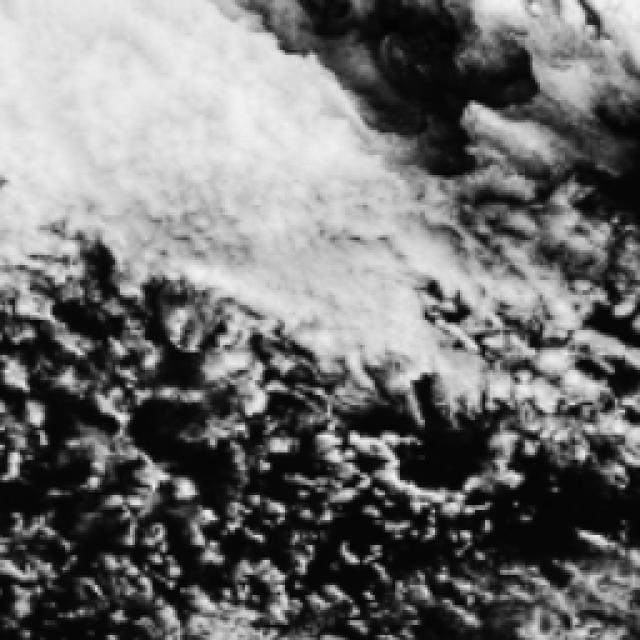CB: (2, 0, 160, 145), (124, 46, 262, 201), (291, 190, 424, 341), (218, 145, 352, 293)
